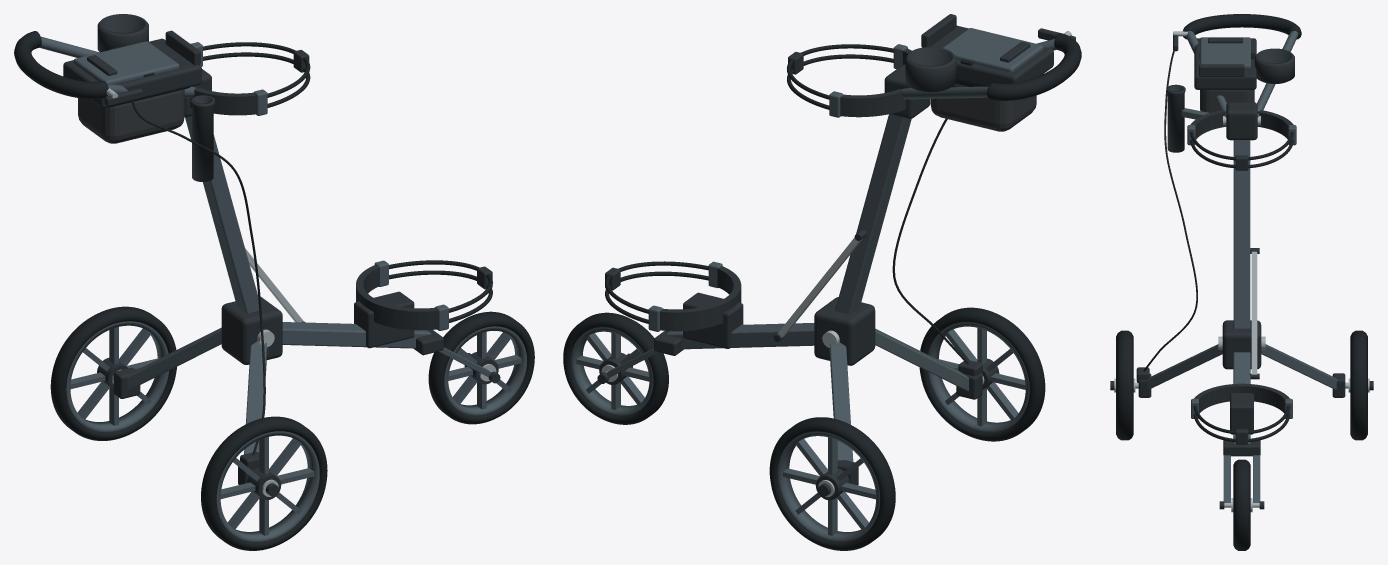
The picture shows the model from 3 angles, left to right: view 1: azimuth 30°, elevation 25°; view 2: azimuth 150°, elevation 25°; view 3: azimuth 270°, elevation 25°; orthographic projection. The views are drawn at different scales.
Visible parts, largest first — view 1: Rear left tire, Rear right tire, Soft under-console pouch, Inclined upper spine, Front tire, Main folding hinge body, Console scorecard lid, Console main body, Rear left open rim, Forward lower chassis, Rear right open rim, Lower curved bag saddle (+15 smaller); view 2: Inclined upper spine, Rear right tire, Rear left tire, Front tire, Main folding hinge body, Soft under-console pouch, Rear right open rim, Console scorecard lid, Rear left open rim, Rounded U rubber push grip, Lower curved bag saddle, Forward lower chassis (+16 smaller); view 3: Inclined upper spine, Rear left tire, Rear right tire, Front tire, Rounded U rubber push grip, Lower curved bag saddle, Main folding hinge body, Open cup holder with closed bottom, Console scorecard lid, Console main body, Upper spine pivot housing, Empty umbrella holder (+17 smaller).
Boxes of the visible parts, left/top/right/bottom form: Rear left tire: left=201, top=416, right=327, bottom=550; Rear right tire: left=50, top=306, right=176, bottom=440; Soft under-console pouch: left=78, top=89, right=184, bottom=143; Inclined upper spine: left=185, top=116, right=259, bottom=313; Front tire: left=428, top=311, right=534, bottom=424; Main folding hinge body: left=221, top=297, right=282, bottom=364; Console scorecard lid: left=73, top=41, right=179, bottom=84; Console main body: left=63, top=38, right=201, bottom=107; Rear left open rim: left=216, top=431, right=319, bottom=541; Forward lower chassis: left=282, top=322, right=430, bottom=348; Rear right open rim: left=66, top=321, right=169, bottom=432; Lower curved bag saddle: left=356, top=265, right=437, bottom=330; Inclined upper spine: left=835, top=114, right=911, bottom=314; Rear right tire: left=769, top=417, right=895, bottom=550; Rear left tire: left=919, top=307, right=1045, bottom=441; Front tire: left=563, top=312, right=668, bottom=424; Main folding hinge body: left=814, top=297, right=875, bottom=365; Soft under-console pouch: left=930, top=83, right=1036, bottom=131; Rear right open rim: left=777, top=431, right=879, bottom=542; Console scorecard lid: left=942, top=28, right=1043, bottom=72; Rear left open rim: left=927, top=322, right=1029, bottom=432; Rounded U rubber push grip: left=987, top=33, right=1081, bottom=100; Lower curved bag saddle: left=660, top=266, right=741, bottom=331; Forward lower chassis: left=666, top=323, right=814, bottom=349; Inclined upper spine: left=1233, top=140, right=1250, bottom=328; Rear left tire: left=1116, top=330, right=1133, bottom=440; Rear right tire: left=1350, top=330, right=1367, bottom=440; Front tire: left=1233, top=459, right=1250, bottom=550; Rounded U rubber push grip: left=1183, top=14, right=1301, bottom=39; Lower curved bag saddle: left=1194, top=383, right=1289, bottom=413; Main folding hinge body: left=1222, top=320, right=1261, bottom=369; Open cup holder with closed bottom: left=1254, top=48, right=1294, bottom=83; Console scorecard lid: left=1200, top=37, right=1250, bottom=68; Console main body: left=1194, top=38, right=1256, bottom=89; Upper spine pivot housing: left=1226, top=102, right=1257, bottom=140; Empty umbrella holder: left=1166, top=84, right=1185, bottom=152.
Size of the model in its own units: 1.24 by 1.09 by 0.72.
